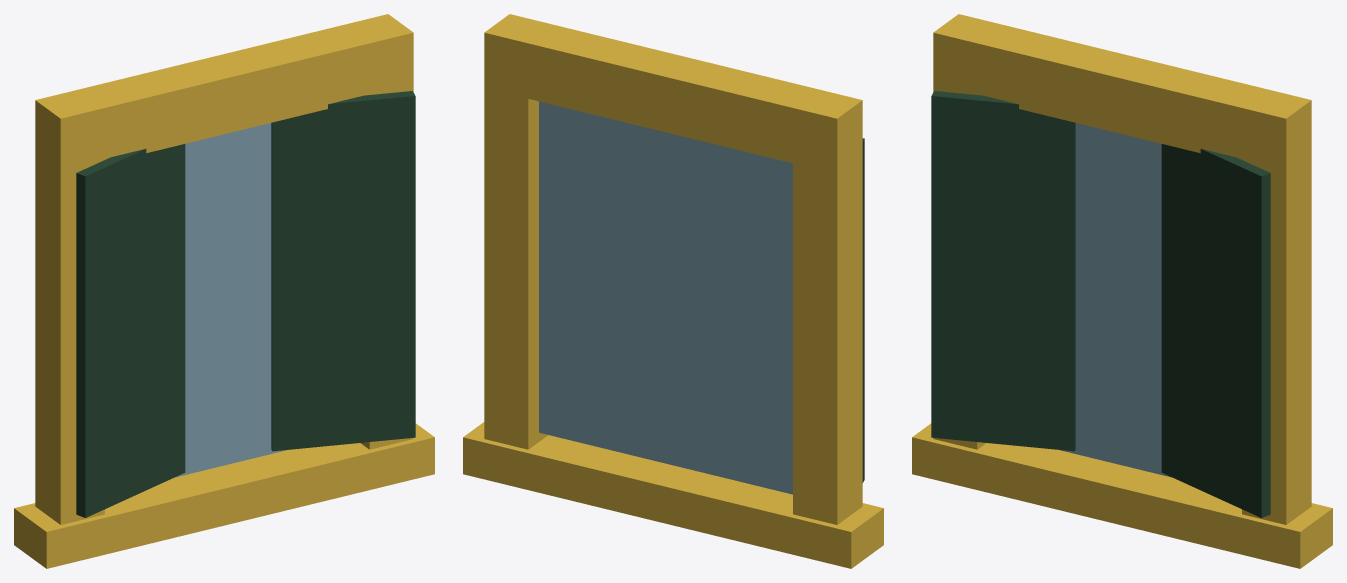
File: CB_ENV_VN_Window_Louver_A.glb
The picture shows the model from 3 angles, left to right: view 1: azimuth 30°, elevation 25°; view 2: azimuth 150°, elevation 25°; view 3: azimuth 330°, elevation 25°; orthographic projection.
Parts seen in each view (by area): view 1: CB_ENV_VN_Window_Louver_A; view 2: CB_ENV_VN_Window_Louver_A; view 3: CB_ENV_VN_Window_Louver_A.
Part boxes in pixels (x1,y1,x2,y2): CB_ENV_VN_Window_Louver_A: [14, 14, 434, 568]; CB_ENV_VN_Window_Louver_A: [463, 14, 883, 568]; CB_ENV_VN_Window_Louver_A: [912, 14, 1332, 568].
Size of the model in its own units: 2.2 by 2.4 by 0.415.
